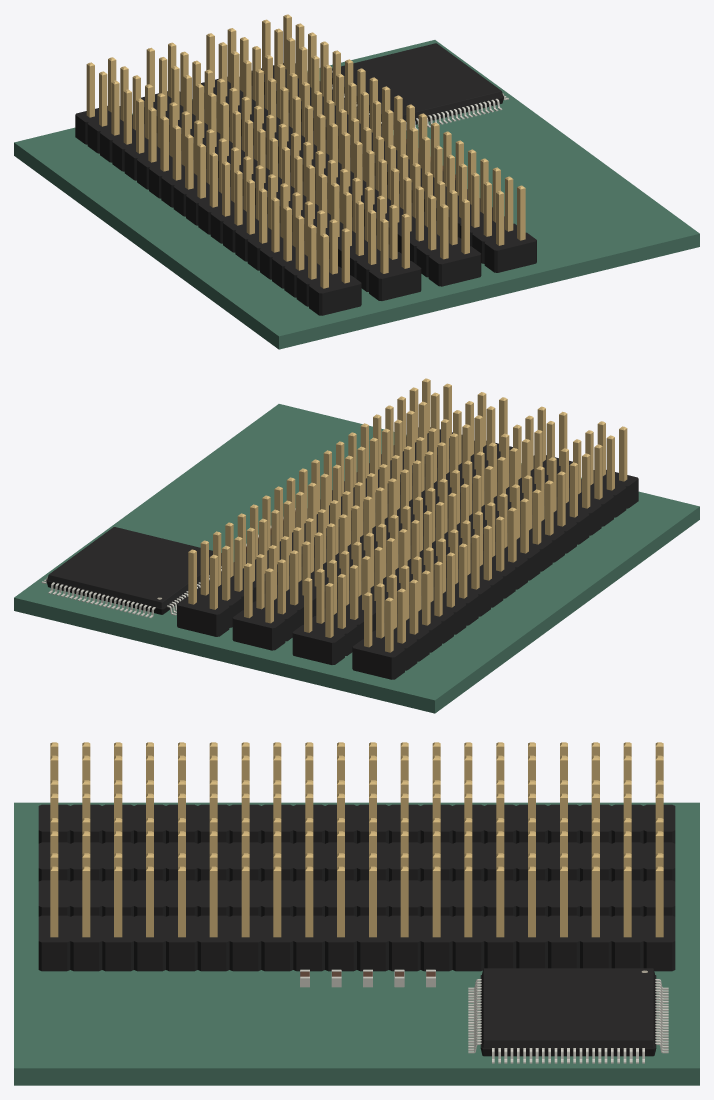
Rendered from board.glb.
3 views of the same model, one above another, from view 1: azimuth 30°, elevation 25°; view 2: azimuth 150°, elevation 25°; view 3: azimuth 270°, elevation 25° (orthographic). The views are drawn at different scales.
Parts seen in each view (by area): view 1: =>[0:1:1:5], J1, J3, J2, J4, U1; view 2: =>[0:1:1:5], J1, J3, J2, J4, U1; view 3: =>[0:1:1:5], J4, J1, J2, J3, U1.
Part boxes in pixels (x1,y1,x2,y2): =>[0:1:1:5]: [14, 40, 699, 349]; J1: [75, 57, 361, 315]; J3: [201, 28, 481, 286]; J2: [141, 42, 421, 300]; J4: [251, 14, 536, 272]; U1: [332, 43, 508, 130]; =>[0:1:1:5]: [14, 404, 699, 713]; J1: [352, 421, 638, 679]; J3: [232, 392, 512, 650]; J2: [292, 406, 572, 664]; J4: [177, 378, 462, 636]; U1: [41, 527, 221, 618]; =>[0:1:1:5]: [14, 802, 699, 1085]; J4: [38, 853, 675, 971]; J1: [38, 742, 675, 843]; J2: [38, 780, 675, 881]; J3: [38, 818, 675, 916]; U1: [468, 968, 668, 1063].
Size of the model in its own units: 0.0502 by 0.0115 by 0.0547.
